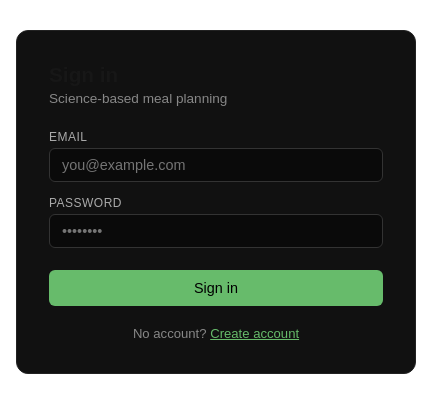
Scenario: SignInPage › failed sign-in › shows inline error message from authClient error
The width and height of the screenshot is (433, 406).
Type "wrong@example.com" into the field labelled "Email" at point(216, 165), box [49,148,383,182]
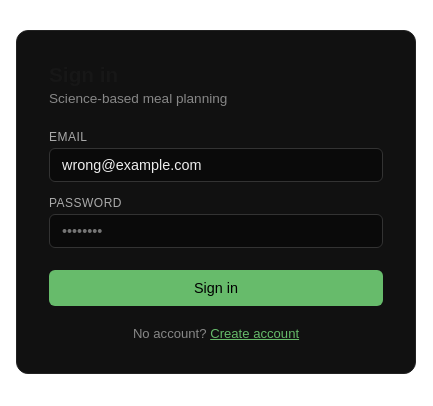
Type "wrongpass" into the password field labelled "Password" at point(216, 231), box [49,214,383,248]
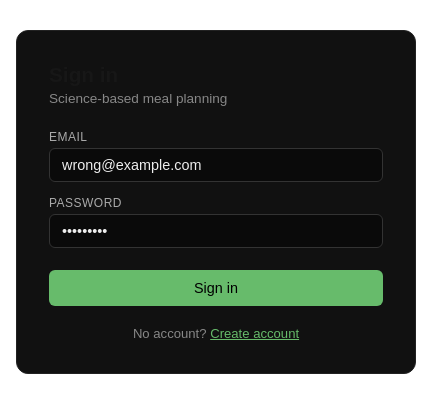
Submit the form "Email Password Sign in", box [49,130,383,306]
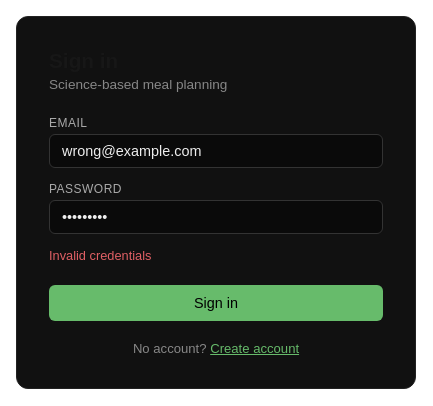
Now the text "Invalid credentials" is shown, box [49,248,151,262]
